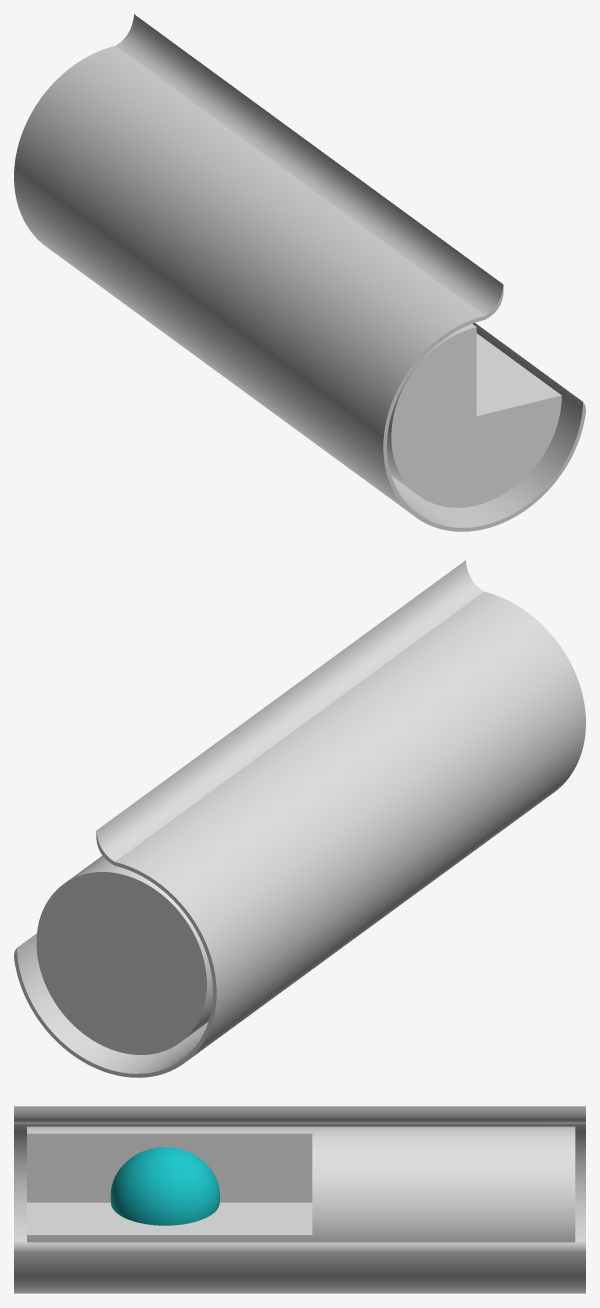
3 renders of one model, top to bottom at view 1: azimuth 30°, elevation 25°; view 2: azimuth 150°, elevation 25°; view 3: azimuth 270°, elevation 25°, orthographic. The views are drawn at different scales.
Size of the model in its own units: 0.00826 by 0.00935 by 0.0261.
